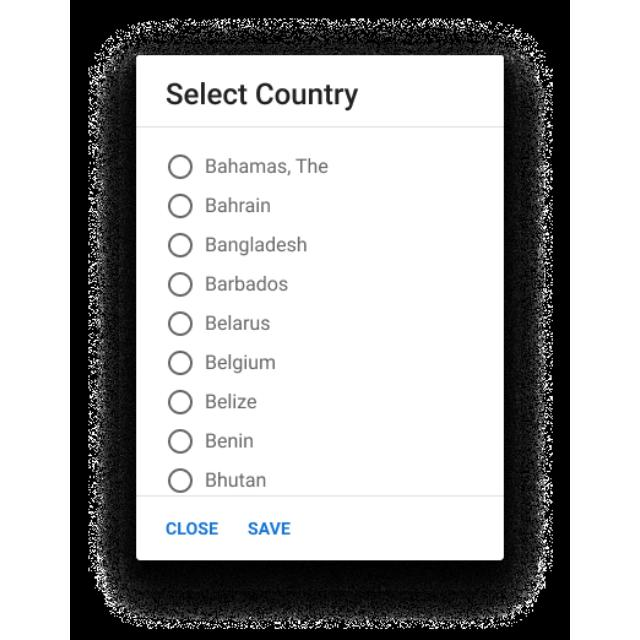QLabel: (164, 81, 358, 111), (201, 156, 329, 178), (205, 234, 308, 256), (202, 274, 290, 296), (204, 352, 276, 374), (202, 193, 272, 214), (203, 312, 270, 332), (205, 470, 268, 490), (202, 391, 258, 411), (202, 432, 254, 451), (164, 521, 222, 537), (246, 521, 292, 537)
VDialog: (136, 52, 507, 562)
VDivider: (137, 492, 503, 500), (137, 122, 503, 130)
VRadio: (164, 192, 193, 220), (164, 152, 192, 180), (166, 270, 194, 298), (166, 310, 194, 338), (166, 388, 194, 416), (166, 467, 194, 495), (167, 350, 196, 376), (166, 232, 194, 258), (166, 429, 194, 455)
